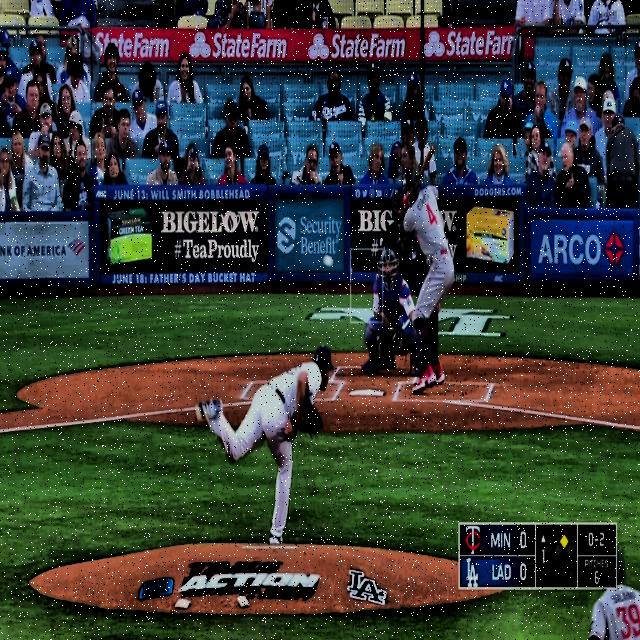baseball: (322, 253, 334, 269)
